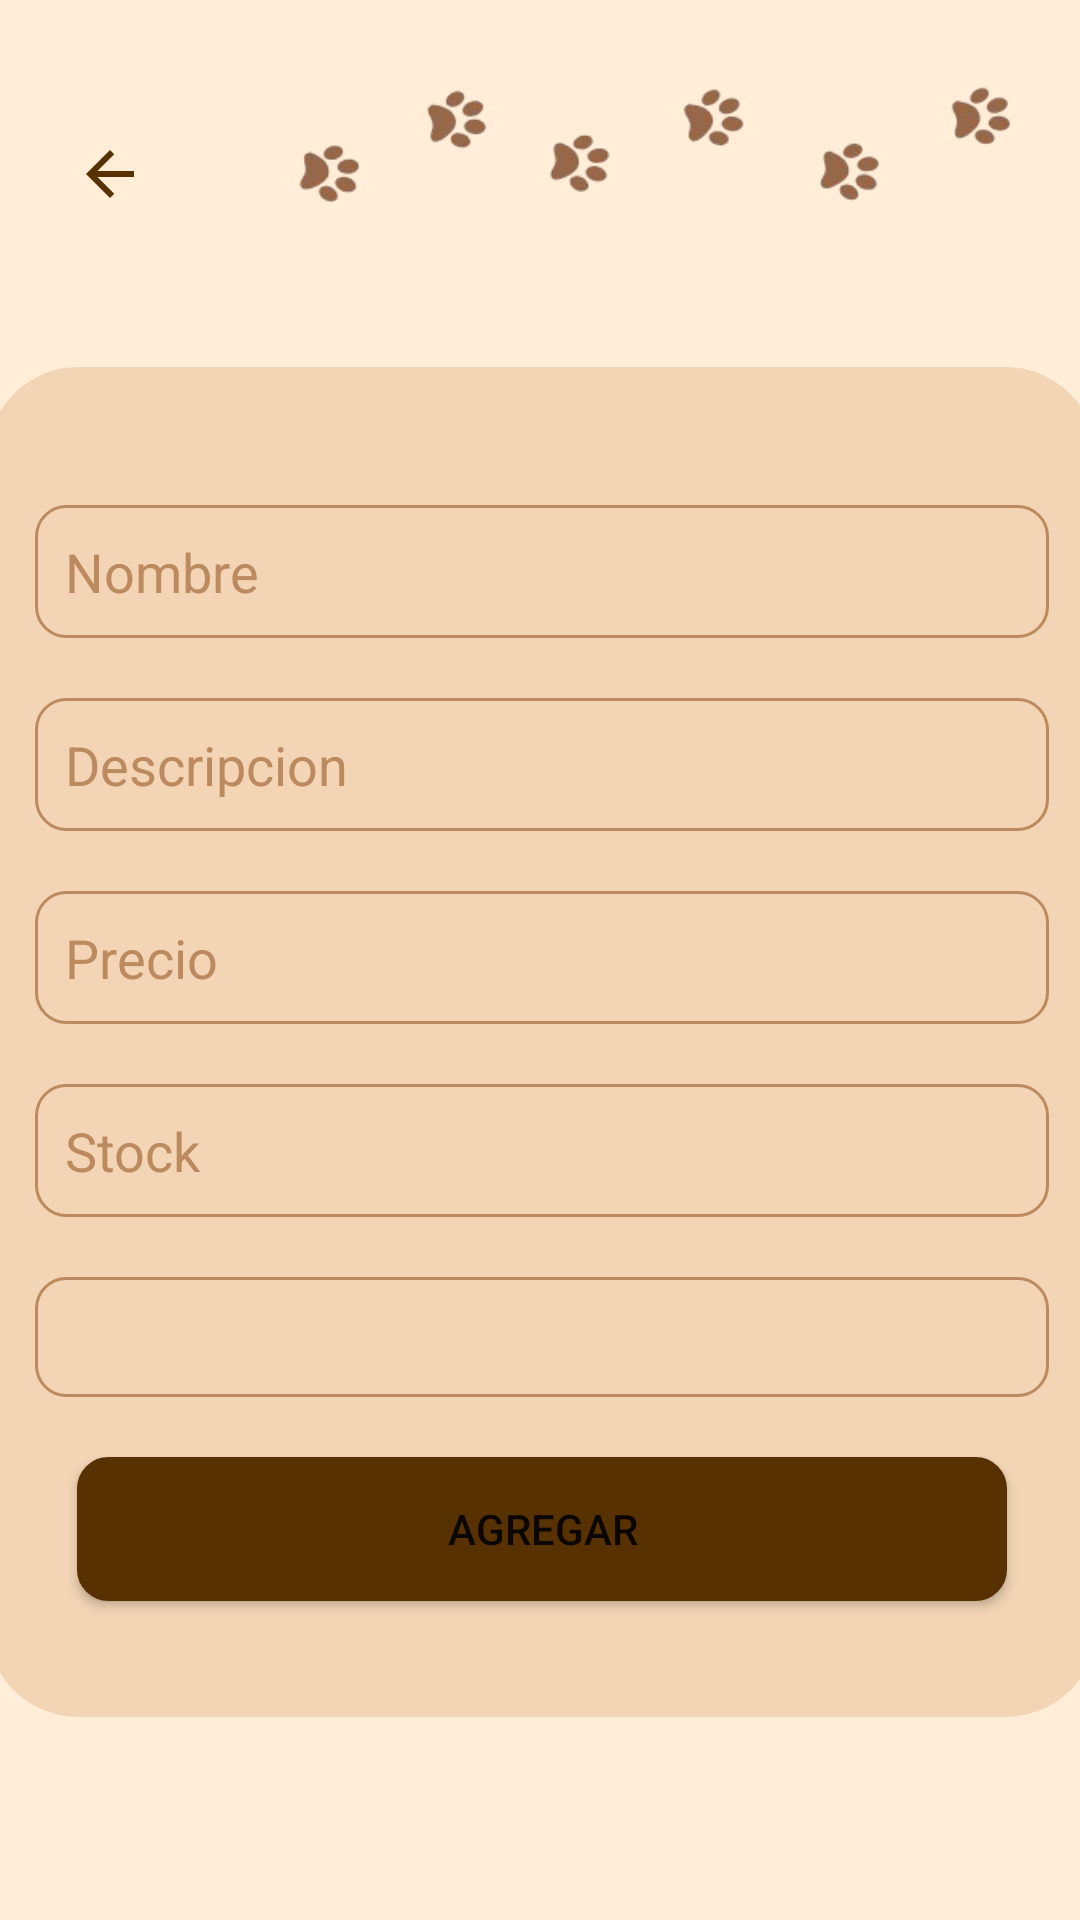

Named icons in this screenshot (1080px×1920px) and their centers, (x,y):
arrow back: (110,174)
